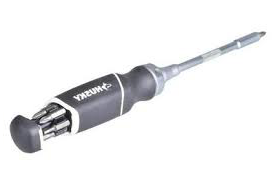Screwdriver: (7, 28, 264, 156)
